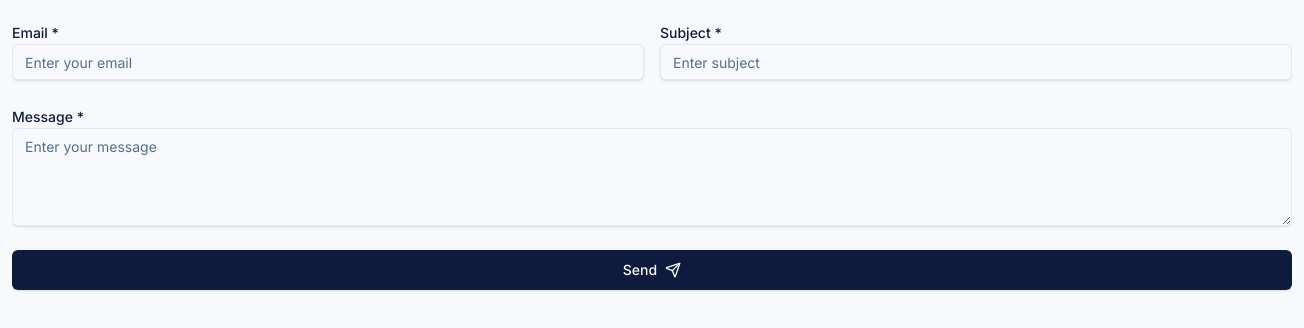
Scenario: ContactForm.tsx - ContactForm Component › State Management Tests › TC9: Should show error message when state contains error
Type "invalid-email" into the field with placeholder "Enter your email".
click(328, 62); type("invalid-email")  # box [12,44,644,80]
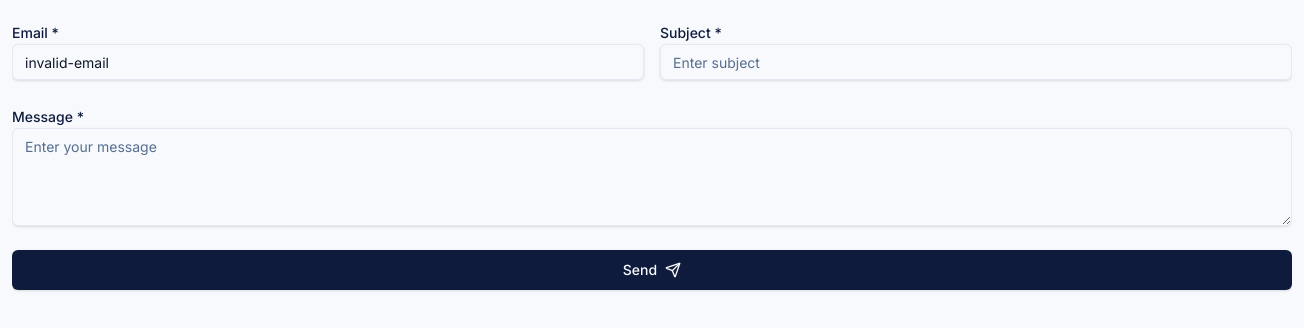
Type "Test message" into the text box with placeholder "Enter your message".
click(652, 177); type("Test message")  # box [12,128,1292,226]
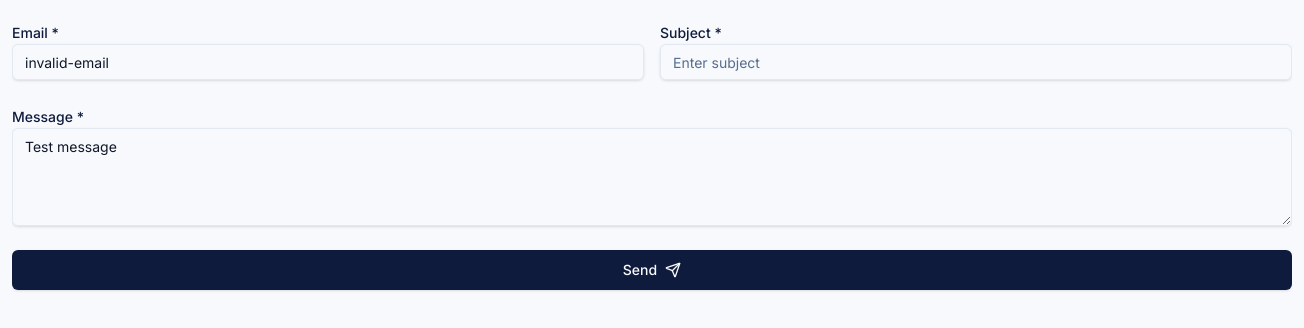
Submit the form
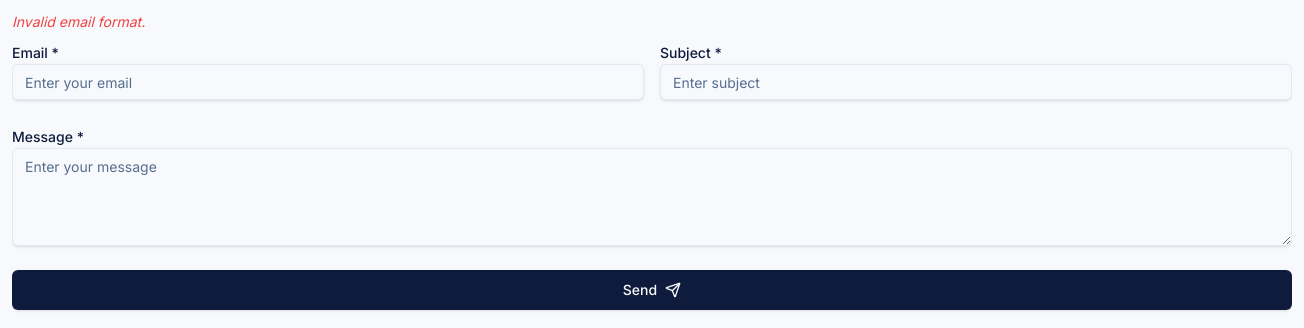
Now the text "Invalid email format." is shown, box [12,13,145,30]
